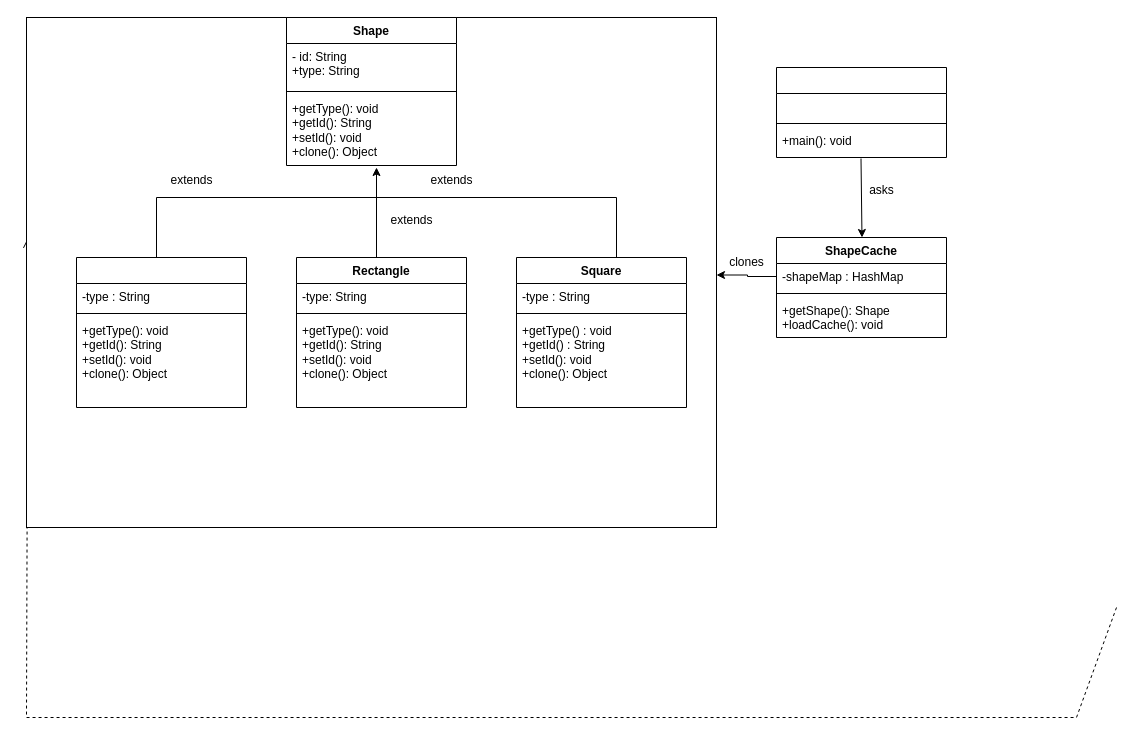
The diagram is 1144 pixels wide and 745 high, and some of its shapes have lost their labels. Each missing label, with the box of its shape:
Circle: (76, 256, 246, 408)
PrototupePatternDemo: (776, 66, 946, 158)
